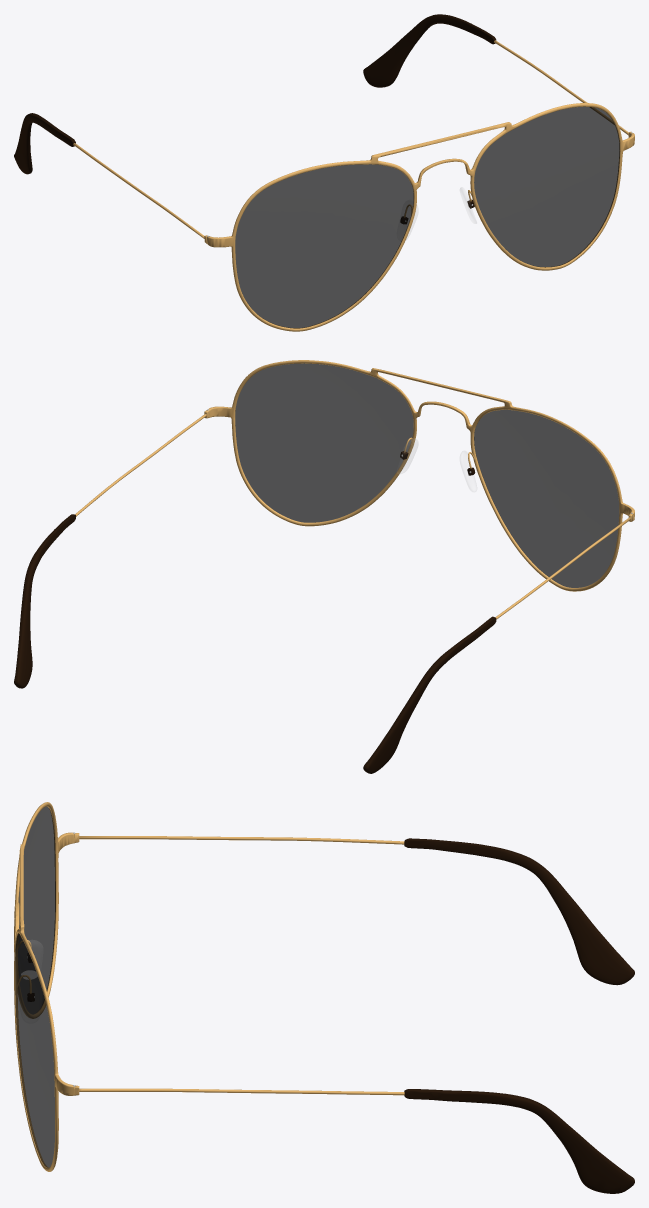
Rendered from glasses0.glb.
3 views of the same model, one above another, from view 1: azimuth 30°, elevation 25°; view 2: azimuth 150°, elevation 25°; view 3: azimuth 270°, elevation 25° (orthographic). The views are drawn at different scales.
Visible parts, largest first — view 1: Aviators_Glass tinted_0, Aviators_Black gloss_0; view 2: Aviators_Glass tinted_0, Aviators_Black gloss_0, Aviators_Transparent_0; view 3: Aviators_Black gloss_0, Aviators_Glass tinted_0.
Boxes of the visible parts, <box> form: Aviators_Glass tinted_0: <box>235,106,619,328</box>; Aviators_Black gloss_0: <box>14,14,634,331</box>; Aviators_Glass tinted_0: <box>235,363,619,587</box>; Aviators_Black gloss_0: <box>14,360,634,773</box>; Aviators_Transparent_0: <box>397,439,476,491</box>; Aviators_Black gloss_0: <box>14,802,634,1193</box>; Aviators_Glass tinted_0: <box>15,806,55,1167</box>.
Bounding box in the file's own units: 123 × 46.08 × 127.
3 materials, 3 textured.
